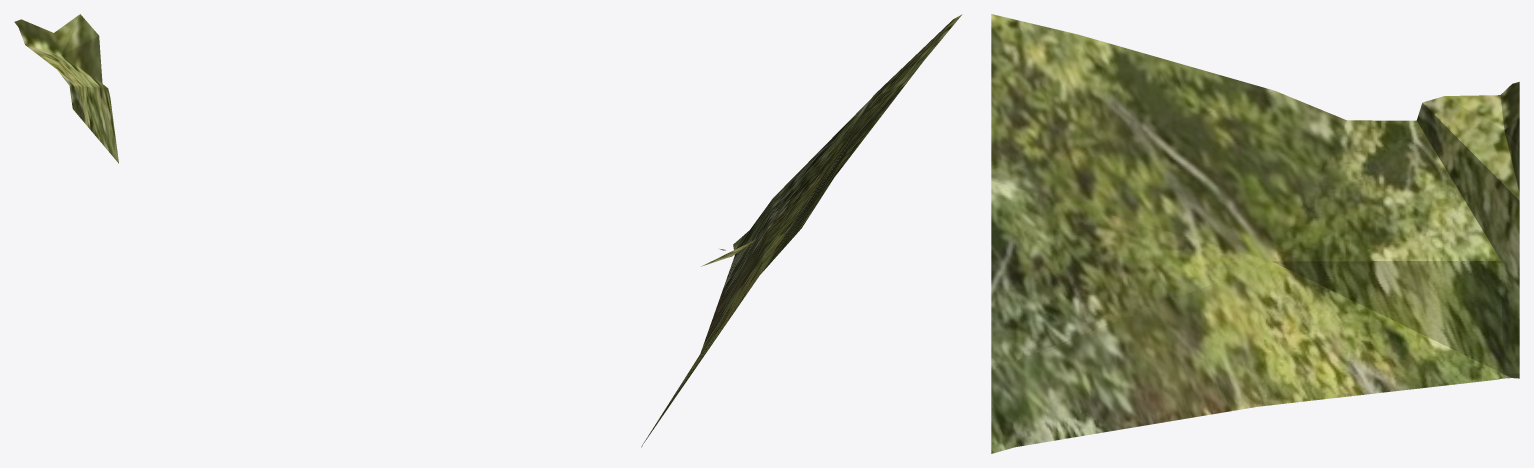
3 renders of one model, left to right at view 1: azimuth 30°, elevation 25°; view 2: azimuth 150°, elevation 25°; view 3: azimuth 270°, elevation 25°, orthographic. The views are drawn at different scales.
Bounding box in the file's own units: 1.63 × 1.95 × 2.95.
2 materials, 2 textured.
